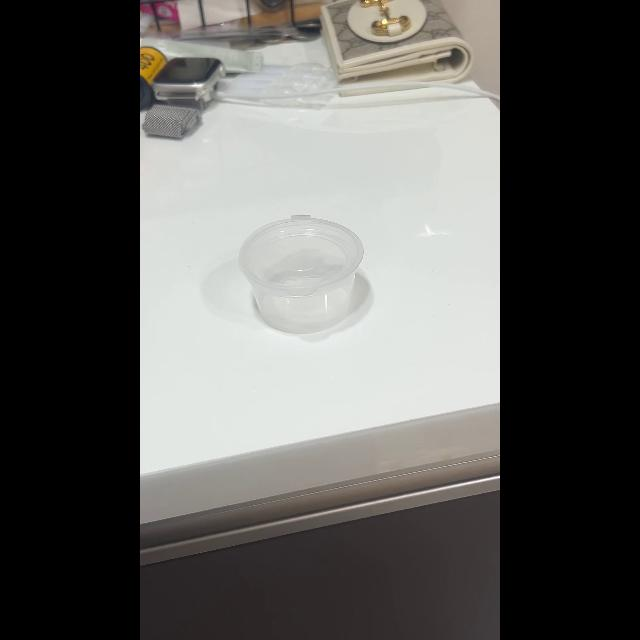clean: (235, 213, 372, 334)
